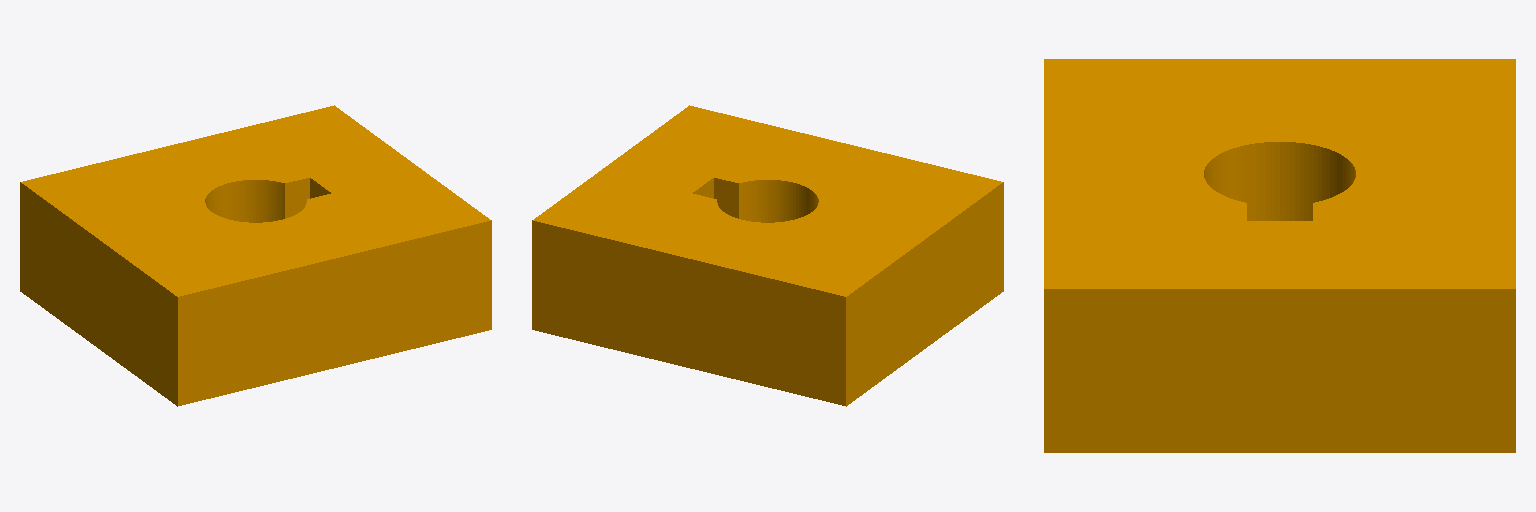
robot.urdf — keyed_peg_socket:
<?xml version='1.0' encoding='utf-8'?>
<robot name="keyed_peg_socket">
  <link name="body">
    <inertial>
      <origin xyz="-0.0002276252560835802 4.1051451788679666e-18 0.02470852766748689" />
      <mass value="2" />
      <inertia ixx="0.003430409240905114" iyy="0.004420304122195771" izz="0.007004506441842769" ixy="-5.336307567702092e-19" ixz="1.953694977327747e-06" iyz="2.663017333697753e-19" />
    </inertial>
    <collision>
      <geometry>
        <mesh filename="part_00.obj" />
      </geometry>
    </collision>
    <collision>
      <geometry>
        <mesh filename="part_01.obj" />
      </geometry>
    </collision>
    <collision>
      <geometry>
        <mesh filename="part_02.obj" />
      </geometry>
    </collision>
    <collision>
      <geometry>
        <mesh filename="part_03.obj" />
      </geometry>
    </collision>
    <collision>
      <geometry>
        <mesh filename="part_04.obj" />
      </geometry>
    </collision>
    <collision>
      <geometry>
        <mesh filename="part_05.obj" />
      </geometry>
    </collision>
    <collision>
      <geometry>
        <mesh filename="part_06.obj" />
      </geometry>
    </collision>
    <collision>
      <geometry>
        <mesh filename="part_07.obj" />
      </geometry>
    </collision>
    <collision>
      <geometry>
        <mesh filename="part_08.obj" />
      </geometry>
    </collision>
    <collision>
      <geometry>
        <mesh filename="part_09.obj" />
      </geometry>
    </collision>
    <collision>
      <geometry>
        <mesh filename="part_10.obj" />
      </geometry>
    </collision>
    <collision>
      <geometry>
        <mesh filename="part_11.obj" />
      </geometry>
    </collision>
    <collision>
      <geometry>
        <mesh filename="part_12.obj" />
      </geometry>
    </collision>
    <collision>
      <geometry>
        <mesh filename="part_13.obj" />
      </geometry>
    </collision>
    <collision>
      <geometry>
        <mesh filename="part_14.obj" />
      </geometry>
    </collision>
    <collision>
      <geometry>
        <mesh filename="part_15.obj" />
      </geometry>
    </collision>
    <collision>
      <geometry>
        <mesh filename="part_16.obj" />
      </geometry>
    </collision>
    <collision>
      <geometry>
        <mesh filename="part_17.obj" />
      </geometry>
    </collision>
    <collision>
      <geometry>
        <mesh filename="part_18.obj" />
      </geometry>
    </collision>
    <collision>
      <geometry>
        <mesh filename="part_19.obj" />
      </geometry>
    </collision>
    <collision>
      <geometry>
        <mesh filename="part_20.obj" />
      </geometry>
    </collision>
    <collision>
      <geometry>
        <mesh filename="part_21.obj" />
      </geometry>
    </collision>
    <collision>
      <geometry>
        <mesh filename="part_22.obj" />
      </geometry>
    </collision>
    <collision>
      <geometry>
        <mesh filename="part_23.obj" />
      </geometry>
    </collision>
    <collision>
      <geometry>
        <mesh filename="part_24.obj" />
      </geometry>
    </collision>
    <collision>
      <geometry>
        <mesh filename="part_25.obj" />
      </geometry>
    </collision>
    <collision>
      <geometry>
        <mesh filename="part_26.obj" />
      </geometry>
    </collision>
    <collision>
      <geometry>
        <mesh filename="part_27.obj" />
      </geometry>
    </collision>
    <collision>
      <geometry>
        <mesh filename="part_28.obj" />
      </geometry>
    </collision>
    <collision>
      <geometry>
        <mesh filename="part_29.obj" />
      </geometry>
    </collision>
    <collision>
      <geometry>
        <mesh filename="part_30.obj" />
      </geometry>
    </collision>
    <collision>
      <geometry>
        <mesh filename="part_31.obj" />
      </geometry>
    </collision>
    <collision>
      <geometry>
        <mesh filename="part_32.obj" />
      </geometry>
    </collision>
    <collision>
      <geometry>
        <mesh filename="part_33.obj" />
      </geometry>
    </collision>
    <collision>
      <geometry>
        <mesh filename="part_34.obj" />
      </geometry>
    </collision>
    <collision>
      <geometry>
        <mesh filename="part_35.obj" />
      </geometry>
    </collision>
    <collision>
      <geometry>
        <mesh filename="part_36.obj" />
      </geometry>
    </collision>
    <collision>
      <geometry>
        <mesh filename="part_37.obj" />
      </geometry>
    </collision>
    <collision>
      <geometry>
        <mesh filename="part_38.obj" />
      </geometry>
    </collision>
    <collision>
      <geometry>
        <mesh filename="part_39.obj" />
      </geometry>
    </collision>
    <collision>
      <geometry>
        <mesh filename="part_40.obj" />
      </geometry>
    </collision>
    <collision>
      <geometry>
        <mesh filename="part_41.obj" />
      </geometry>
    </collision>
    <collision>
      <geometry>
        <mesh filename="part_42.obj" />
      </geometry>
    </collision>
    <collision>
      <geometry>
        <mesh filename="part_43.obj" />
      </geometry>
    </collision>
    <collision>
      <geometry>
        <mesh filename="part_44.obj" />
      </geometry>
    </collision>
    <collision>
      <geometry>
        <mesh filename="part_45.obj" />
      </geometry>
    </collision>
    <collision>
      <geometry>
        <mesh filename="part_46.obj" />
      </geometry>
    </collision>
    <collision>
      <geometry>
        <mesh filename="part_47.obj" />
      </geometry>
    </collision>
    <collision>
      <geometry>
        <mesh filename="part_48.obj" />
      </geometry>
    </collision>
    <collision>
      <geometry>
        <mesh filename="part_49.obj" />
      </geometry>
    </collision>
    <collision>
      <geometry>
        <mesh filename="part_50.obj" />
      </geometry>
    </collision>
    <collision>
      <geometry>
        <mesh filename="part_51.obj" />
      </geometry>
    </collision>
    <collision>
      <geometry>
        <mesh filename="part_52.obj" />
      </geometry>
    </collision>
    <collision>
      <geometry>
        <mesh filename="part_53.obj" />
      </geometry>
    </collision>
    <collision>
      <geometry>
        <mesh filename="part_54.obj" />
      </geometry>
    </collision>
    <collision>
      <geometry>
        <mesh filename="part_55.obj" />
      </geometry>
    </collision>
    <collision>
      <geometry>
        <mesh filename="part_56.obj" />
      </geometry>
    </collision>
    <collision>
      <geometry>
        <mesh filename="part_57.obj" />
      </geometry>
    </collision>
    <collision>
      <geometry>
        <mesh filename="part_58.obj" />
      </geometry>
    </collision>
    <collision>
      <geometry>
        <mesh filename="part_59.obj" />
      </geometry>
    </collision>
    <collision>
      <geometry>
        <mesh filename="part_60.obj" />
      </geometry>
    </collision>
    <collision>
      <geometry>
        <mesh filename="part_61.obj" />
      </geometry>
    </collision>
    <collision>
      <geometry>
        <mesh filename="part_62.obj" />
      </geometry>
    </collision>
    <collision>
      <geometry>
        <mesh filename="part_63.obj" />
      </geometry>
    </collision>
    <collision>
      <geometry>
        <mesh filename="part_64.obj" />
      </geometry>
    </collision>
    <collision>
      <geometry>
        <mesh filename="part_65.obj" />
      </geometry>
    </collision>
    <collision>
      <geometry>
        <mesh filename="part_66.obj" />
      </geometry>
    </collision>
    <collision>
      <geometry>
        <mesh filename="part_67.obj" />
      </geometry>
    </collision>
    <collision>
      <geometry>
        <mesh filename="part_68.obj" />
      </geometry>
    </collision>
    <collision>
      <geometry>
        <mesh filename="part_69.obj" />
      </geometry>
    </collision>
    <collision>
      <geometry>
        <mesh filename="part_70.obj" />
      </geometry>
    </collision>
    <collision>
      <geometry>
        <mesh filename="part_71.obj" />
      </geometry>
    </collision>
    <collision>
      <geometry>
        <mesh filename="part_72.obj" />
      </geometry>
    </collision>
    <collision>
      <geometry>
        <mesh filename="part_73.obj" />
      </geometry>
    </collision>
    <collision>
      <geometry>
        <mesh filename="part_74.obj" />
      </geometry>
    </collision>
    <collision>
      <geometry>
        <mesh filename="part_75.obj" />
      </geometry>
    </collision>
    <collision>
      <geometry>
        <mesh filename="part_76.obj" />
      </geometry>
    </collision>
    <collision>
      <geometry>
        <mesh filename="part_77.obj" />
      </geometry>
    </collision>
    <collision>
      <geometry>
        <mesh filename="part_78.obj" />
      </geometry>
    </collision>
    <collision>
      <geometry>
        <mesh filename="part_79.obj" />
      </geometry>
    </collision>
    <collision>
      <geometry>
        <mesh filename="part_80.obj" />
      </geometry>
    </collision>
    <collision>
      <geometry>
        <mesh filename="part_81.obj" />
      </geometry>
    </collision>
    <collision>
      <geometry>
        <mesh filename="part_82.obj" />
      </geometry>
    </collision>
    <collision>
      <geometry>
        <mesh filename="part_83.obj" />
      </geometry>
    </collision>
    <collision>
      <geometry>
        <mesh filename="part_84.obj" />
      </geometry>
    </collision>
    <collision>
      <geometry>
        <mesh filename="part_85.obj" />
      </geometry>
    </collision>
    <collision>
      <geometry>
        <mesh filename="part_86.obj" />
      </geometry>
    </collision>
    <collision>
      <geometry>
        <mesh filename="part_87.obj" />
      </geometry>
    </collision>
    <collision>
      <geometry>
        <mesh filename="part_88.obj" />
      </geometry>
    </collision>
    <collision>
      <geometry>
        <mesh filename="part_89.obj" />
      </geometry>
    </collision>
    <collision>
      <geometry>
        <mesh filename="part_90.obj" />
      </geometry>
    </collision>
    <collision>
      <geometry>
        <mesh filename="part_91.obj" />
      </geometry>
    </collision>
    <visual>
      <geometry>
        <mesh filename="visual.obj" />
      </geometry>
    </visual>
  </link>
</robot>

--- Facts derived from the render (not from the file) ---
Views: 3 orthographic renders of the robot side by side, from view 1: azimuth 30°, elevation 25°; view 2: azimuth 150°, elevation 25°; view 3: azimuth 270°, elevation 25°.
Model keyed_peg_socket with 1 links and 0 joints (none), rooted at body, posed all joints at 0.
Links seen in each view (by area): view 1: body; view 2: body; view 3: body.
Link boxes in pixels (x1,y1,x2,y2): body: (20, 105, 491, 406); body: (532, 105, 1003, 406); body: (1044, 59, 1515, 452).
Bounding box of the posed robot: 0.15 × 0.13 × 0.05 m (x, y, z).
Meshes: 1 distinct files referenced, 1 mesh visuals loaded (1 OBJ).
